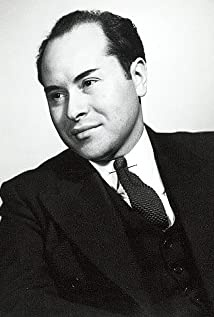bad: (20, 44, 127, 152)
